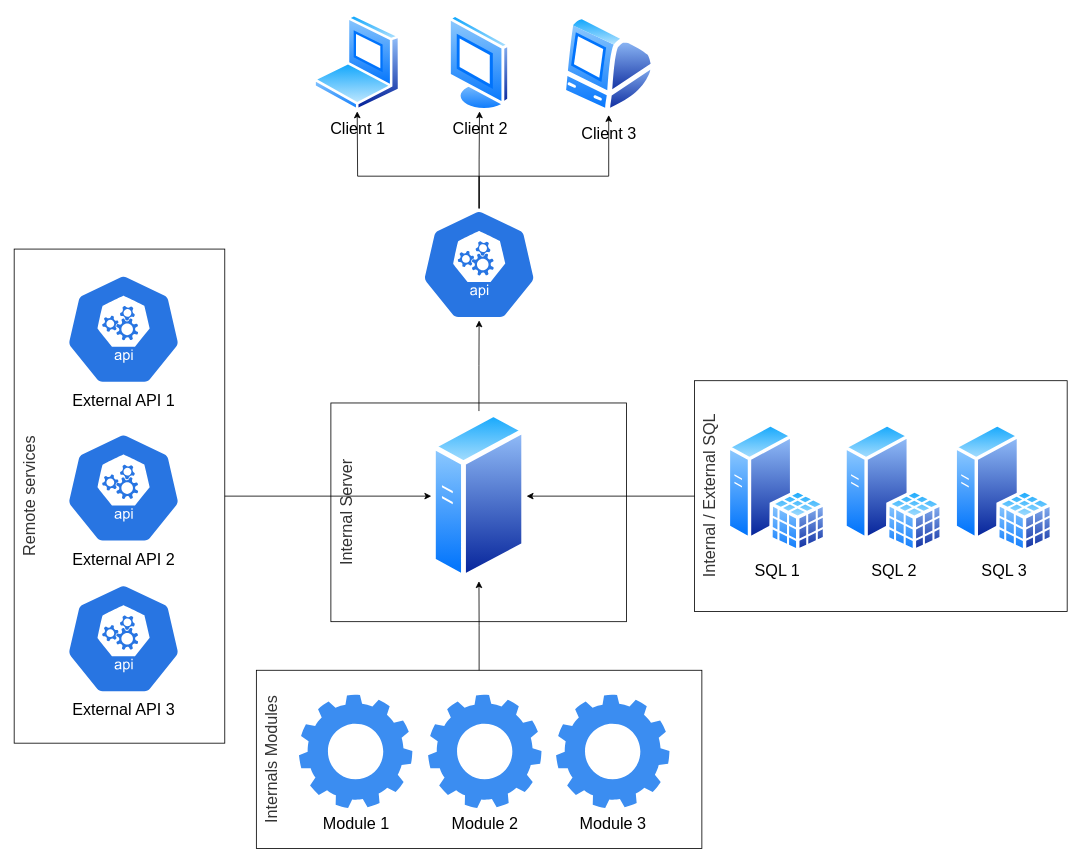
The diagram is 1081 pixels wide and 863 high, and some of its shapes have lost their labels. The shapes that lost their labels are listed below. From the top down, each one's centre as x and y in pixels, then its label:
the point at 478,264: API Exposrt Service
the point at 478,496: Central Distribution Service
